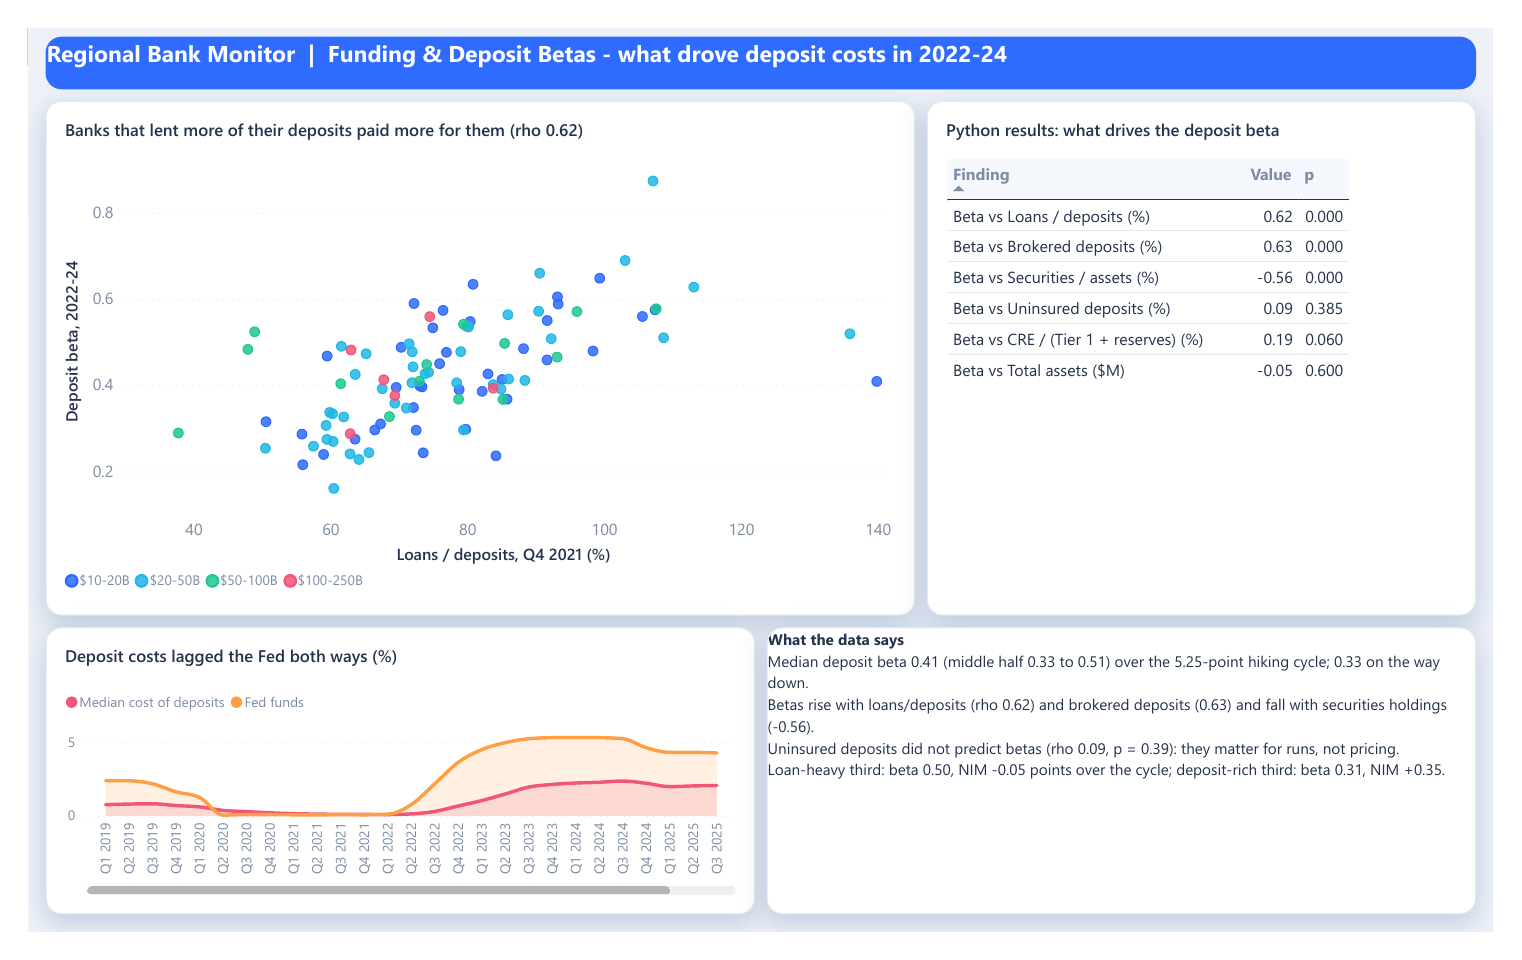

What the dashboard file says about the page in this screenshot:
{"tool":"powerbi","page":{"name":"Funding & Deposit Betas","canvas":[1280,790],"ordinal":2},"visuals":[{"type":"textbox","box":[15,8,1250,46],"z":1000},{"type":"scatterChart","title":"Banks that lent more of their deposits paid more for them (rho 0.62)","fields":{"Category":["Banks.bank"],"Series":["Banks.size_band"],"X":["_Measures.Loans / Deposits at Q4 2021 %"],"Y":["_Measures.Deposit Beta (Hikes)"]},"box":[15,64,760,450],"z":2000},{"type":"tableEx","title":"Python results: what drives the deposit beta","fields":{"Values":["Findings.finding","_Measures.Finding Value","_Measures.Finding p-value"]},"box":[785,64,480,450],"z":3000},{"type":"areaChart","title":"Deposit costs lagged the Fed both ways (%)","fields":{"Category":["Quarters.quarter"],"Y":["_Measures.Median Cost of Deposits % by Quarter","_Measures.Fed Funds by Quarter %"]},"box":[15,524,620,251],"z":4000},{"type":"textbox","box":[645,524,620,251],"z":5000}]}

Visuals, with their boxes in screenshot pixels (x1, y1, x2, y2), scaled from the page's 1280x790 canvas onto the 1522x960 screenshot:
textbox: <region>18, 10, 1504, 66</region>
"Banks that lent more of their deposits paid more for them (rho 0.62)" scatterChart: <region>18, 78, 922, 625</region>
"Python results: what drives the deposit beta" tableEx: <region>933, 78, 1504, 625</region>
"Deposit costs lagged the Fed both ways (%)" areaChart: <region>18, 637, 755, 942</region>
textbox: <region>767, 637, 1504, 942</region>
